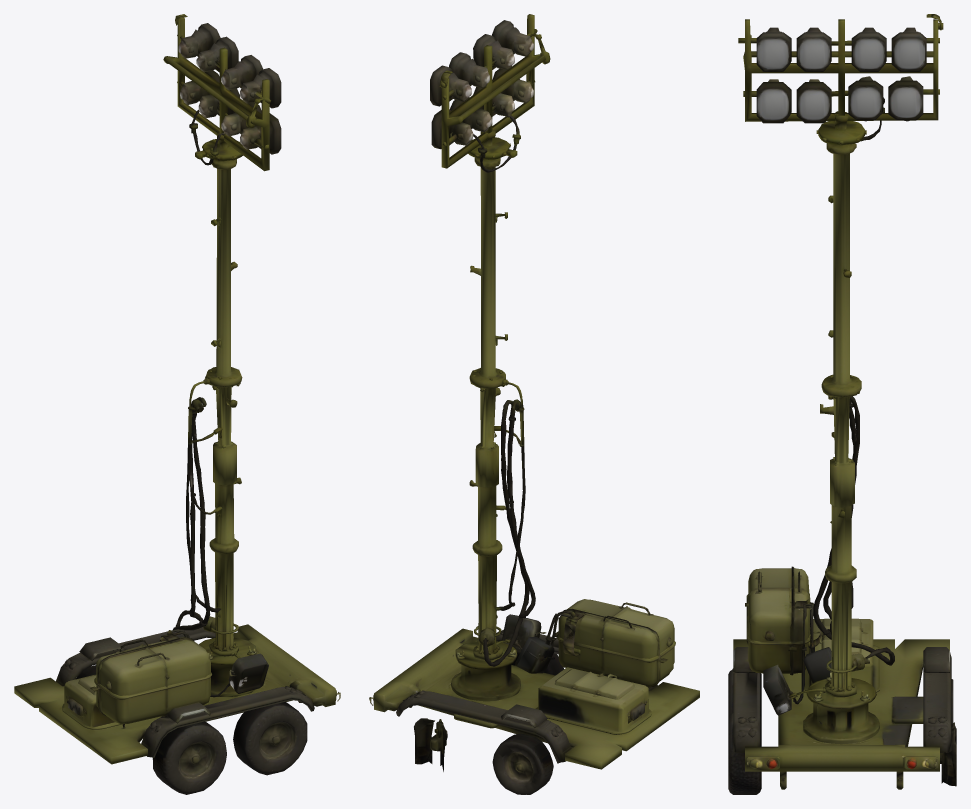
File: ch4_mobile_light_tower.glb
3 renders of one model, left to right at view 1: azimuth 30°, elevation 25°; view 2: azimuth 150°, elevation 25°; view 3: azimuth 270°, elevation 25°, orthographic. The views are drawn at different scales.
Parts seen in each view (by area): view 1: tripo_node_c0f13101-130a-4c5d-920d-0b0e6c6459a0; view 2: tripo_node_c0f13101-130a-4c5d-920d-0b0e6c6459a0; view 3: tripo_node_c0f13101-130a-4c5d-920d-0b0e6c6459a0.
Part boxes in pixels (box(x1,y1,x2,y2)): tripo_node_c0f13101-130a-4c5d-920d-0b0e6c6459a0: box(14, 14, 340, 794); tripo_node_c0f13101-130a-4c5d-920d-0b0e6c6459a0: box(369, 14, 699, 794); tripo_node_c0f13101-130a-4c5d-920d-0b0e6c6459a0: box(728, 14, 956, 794).
Bounding box in the file's own units: 0.3574 × 0.998 × 0.2676.
1 material, 1 textured.
